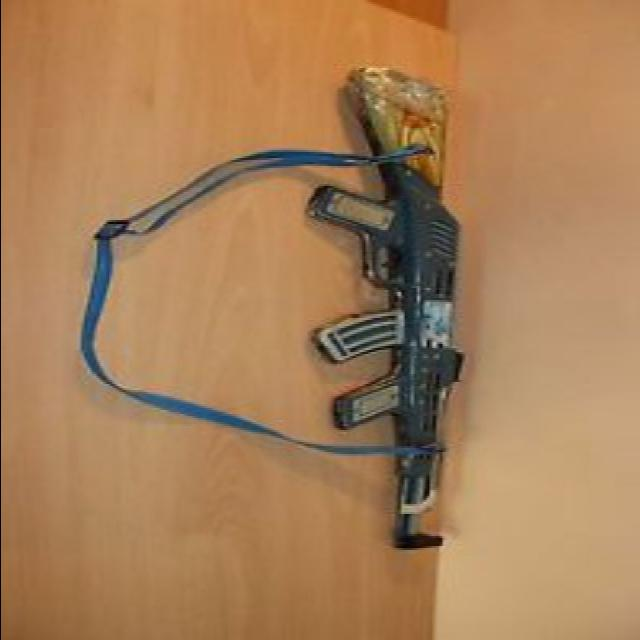rifle: (313, 67, 459, 559)
